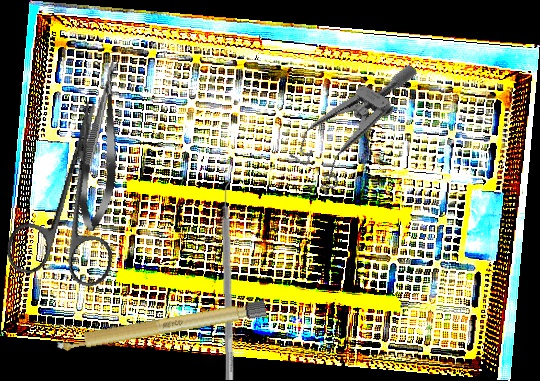Iris Scissors: (2, 90, 147, 292)
Micro Scissor: (72, 57, 132, 234)
Scalpel Handle: (55, 298, 267, 354)
Spatula Surgical: (218, 179, 244, 381)
Speculum: (281, 36, 419, 203)
